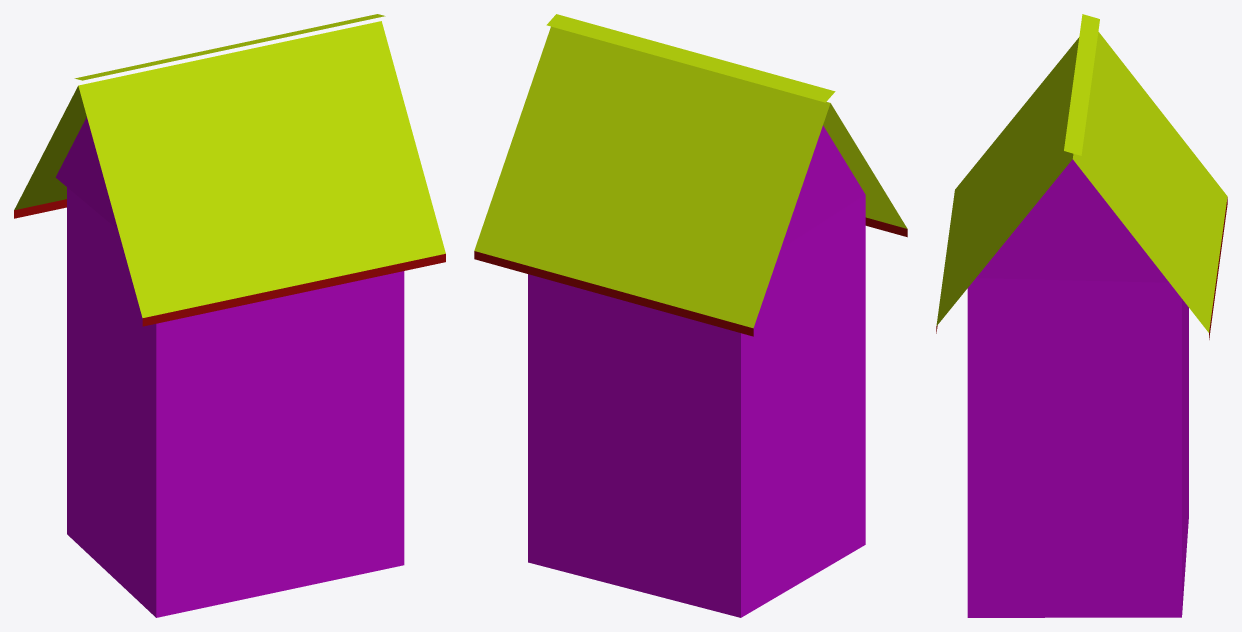
The model's file is suc_0.glb.
3 views of the same model, side by side, from view 1: azimuth 30°, elevation 25°; view 2: azimuth 150°, elevation 25°; view 3: azimuth 270°, elevation 25° (orthographic). The views are drawn at different scales.
Parts seen in each view (by area): view 1: suc_0; view 2: suc_0; view 3: suc_0.
Boxes of the visible parts, box(x1,y1,x2,y2) form: suc_0: box(14, 14, 445, 617); suc_0: box(474, 14, 907, 617); suc_0: box(936, 14, 1227, 617).
Bounding box in the file's own units: 4.6 × 7.2 × 3.94.
